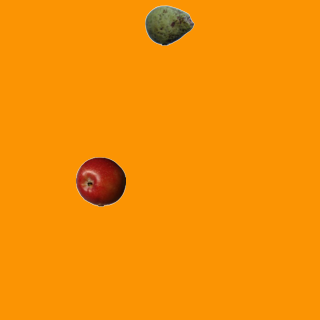Apple Braeburn: (75, 156, 125, 206)
Pear Stone: (144, 0, 194, 50)
